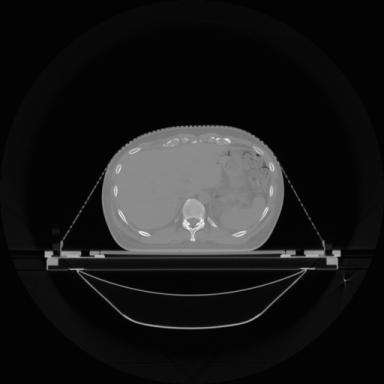body: (102, 126, 284, 251)
cord: (182, 199, 206, 241)
